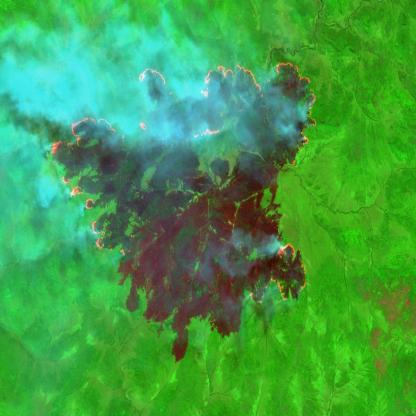fire: (45, 49, 322, 308)
